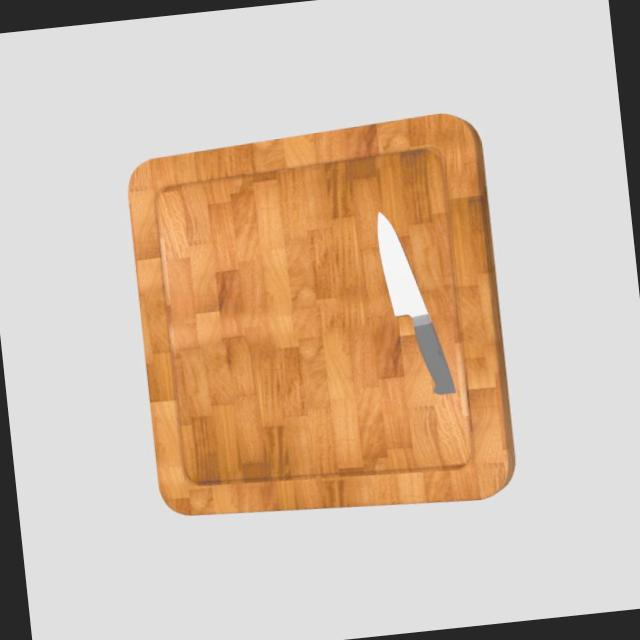knife: (414, 318, 461, 402)
